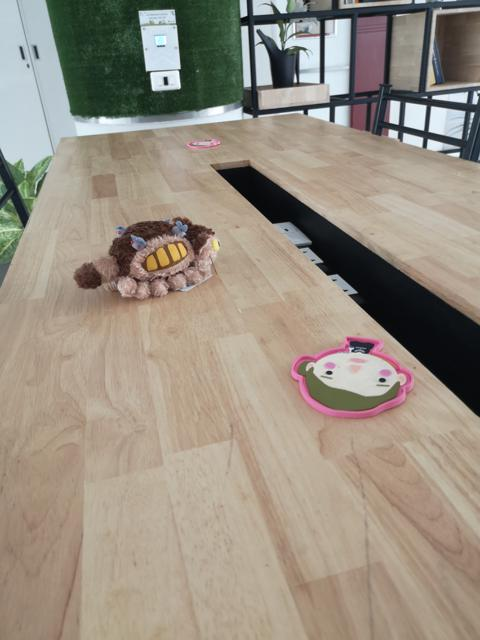nekobus: (72, 210, 226, 304)
